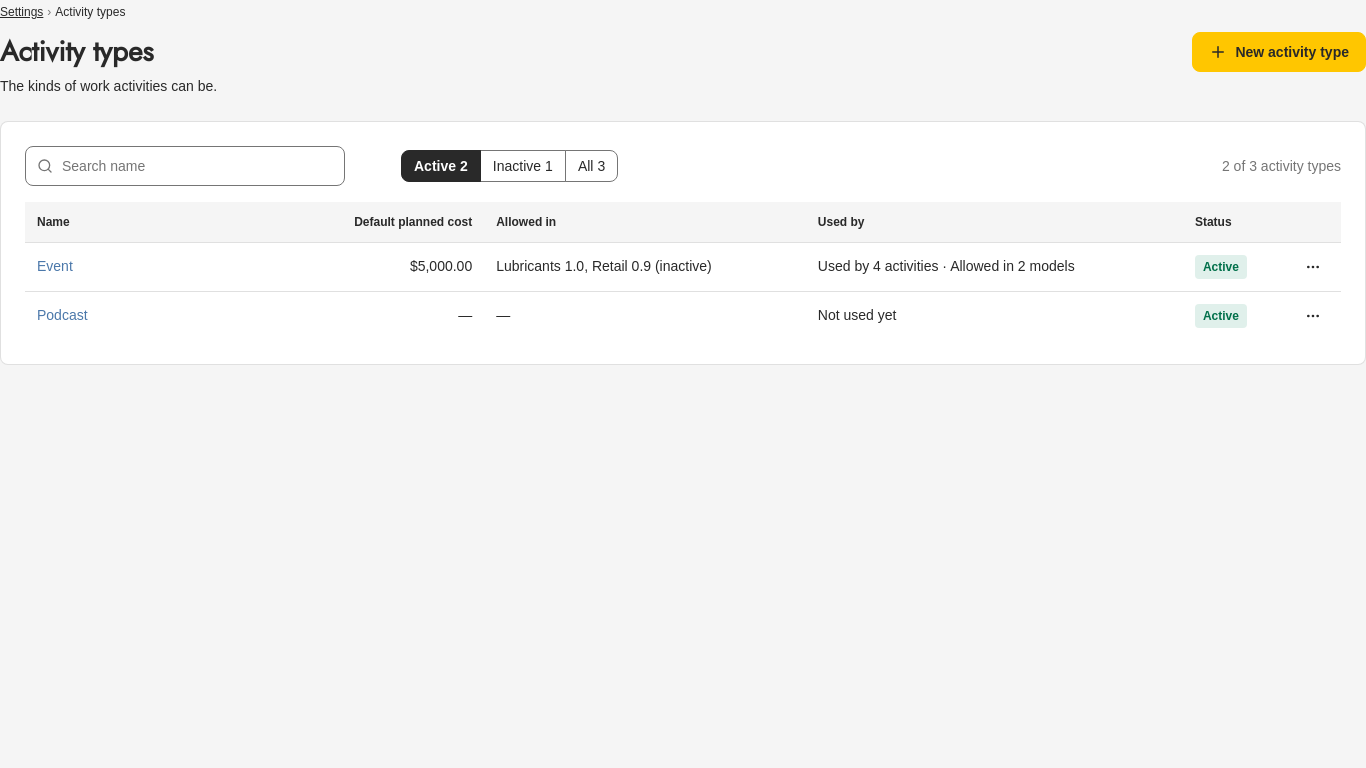
Test: ActivityTypesPage: status and delete (US5 scenario 5, FR-004) › moves an unused type to the recycle bin and offers Undo
The image size is (1366, 768).
Expected: the table is shown, [25,202,1341,340]
Step 1. Click the button named "Actions for Podcast" → [1313, 316], box [1297,300,1329,332]
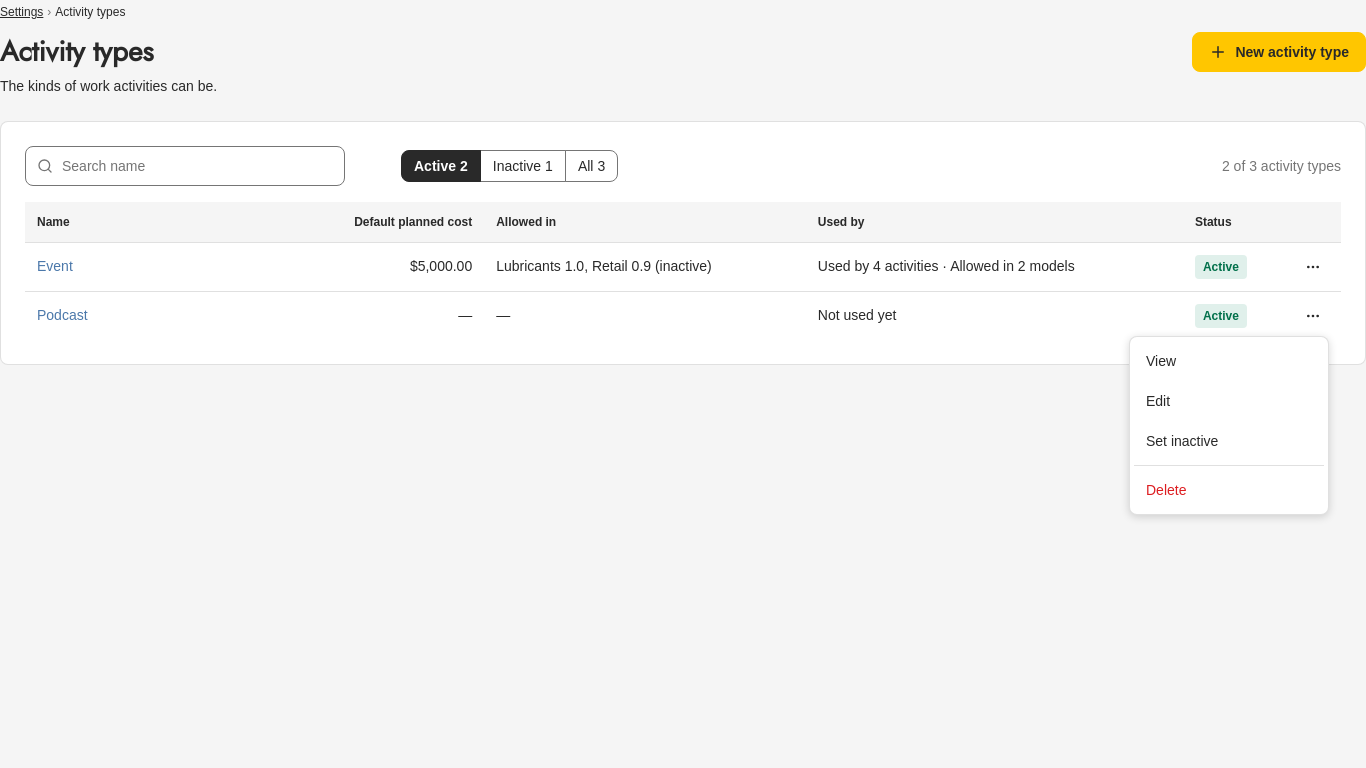
Step 2. Click the menu item "Delete" → [1166, 490], box [1146,482,1186,498]
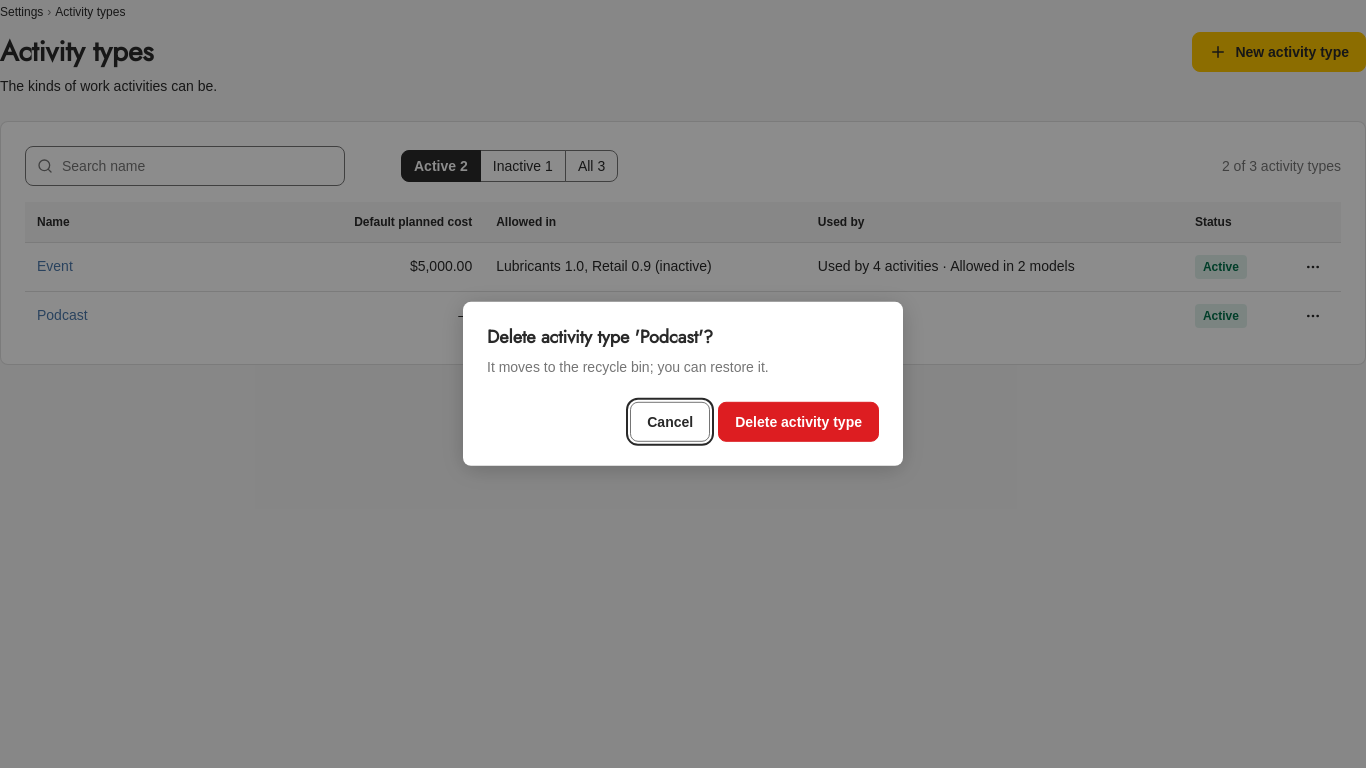
Expected: the dialog "Delete activity type 'Podcast'?" shows "It moves to the recycle bin; you can restore it.", [487,359,769,375]
Step 3. Click the button "Delete activity type" → [799, 422], box [718,402,879,442]
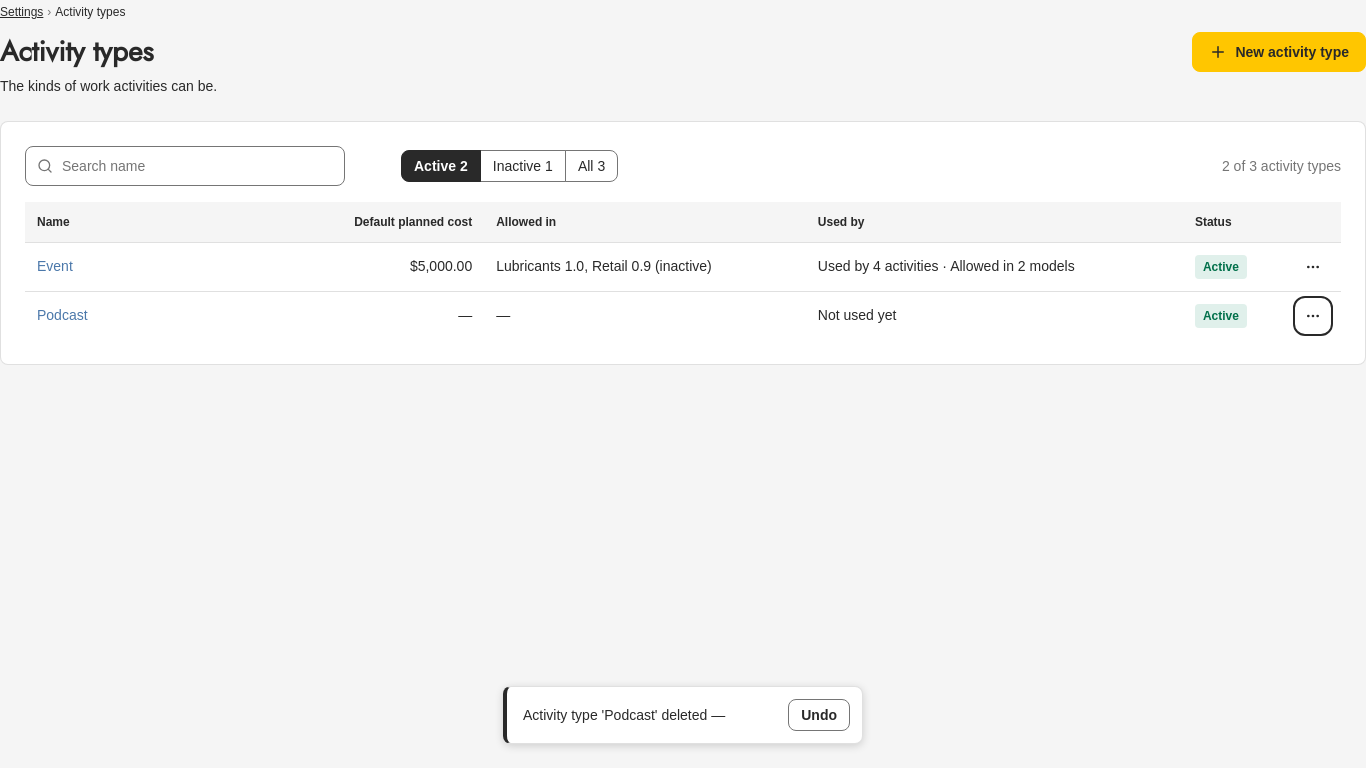
Expected: the button "Undo" is shown, [788,699,850,731]
